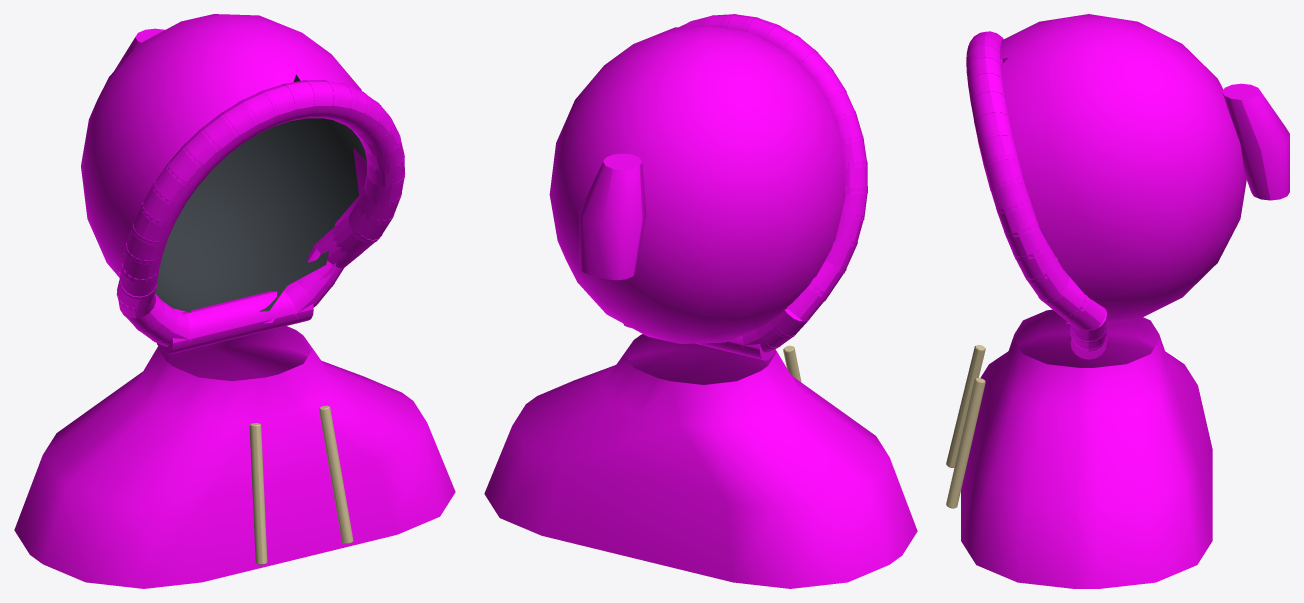
Rendered from porte_capuche.glb.
3 views of the same model, side by side, from view 1: azimuth 30°, elevation 25°; view 2: azimuth 150°, elevation 25°; view 3: azimuth 270°, elevation 25° (orthographic). The views are drawn at different scales.
Parts seen in each view (by area): view 1: poitrine__pelerine_teinte.002, tete__capuche_teinte.002, tete__capuche_teinte_sombre.002, poitrine__pelerine_ficelle.002; view 2: tete__capuche_teinte.002, poitrine__pelerine_teinte.002; view 3: tete__capuche_teinte.002, poitrine__pelerine_teinte.002, poitrine__pelerine_ficelle.002.
Boxes of the visible parts, x1,y1,x2,y2 form: poitrine__pelerine_teinte.002: [14, 326, 455, 588]; tete__capuche_teinte.002: [81, 14, 405, 354]; tete__capuche_teinte_sombre.002: [122, 74, 366, 312]; poitrine__pelerine_ficelle.002: [249, 405, 353, 564]; tete__capuche_teinte.002: [549, 14, 867, 360]; poitrine__pelerine_teinte.002: [484, 334, 917, 588]; tete__capuche_teinte.002: [966, 14, 1289, 359]; poitrine__pelerine_teinte.002: [961, 309, 1212, 588]; poitrine__pelerine_ficelle.002: [946, 345, 985, 508].
Size of the model in its own units: 0.46 by 0.535 by 0.3555.
